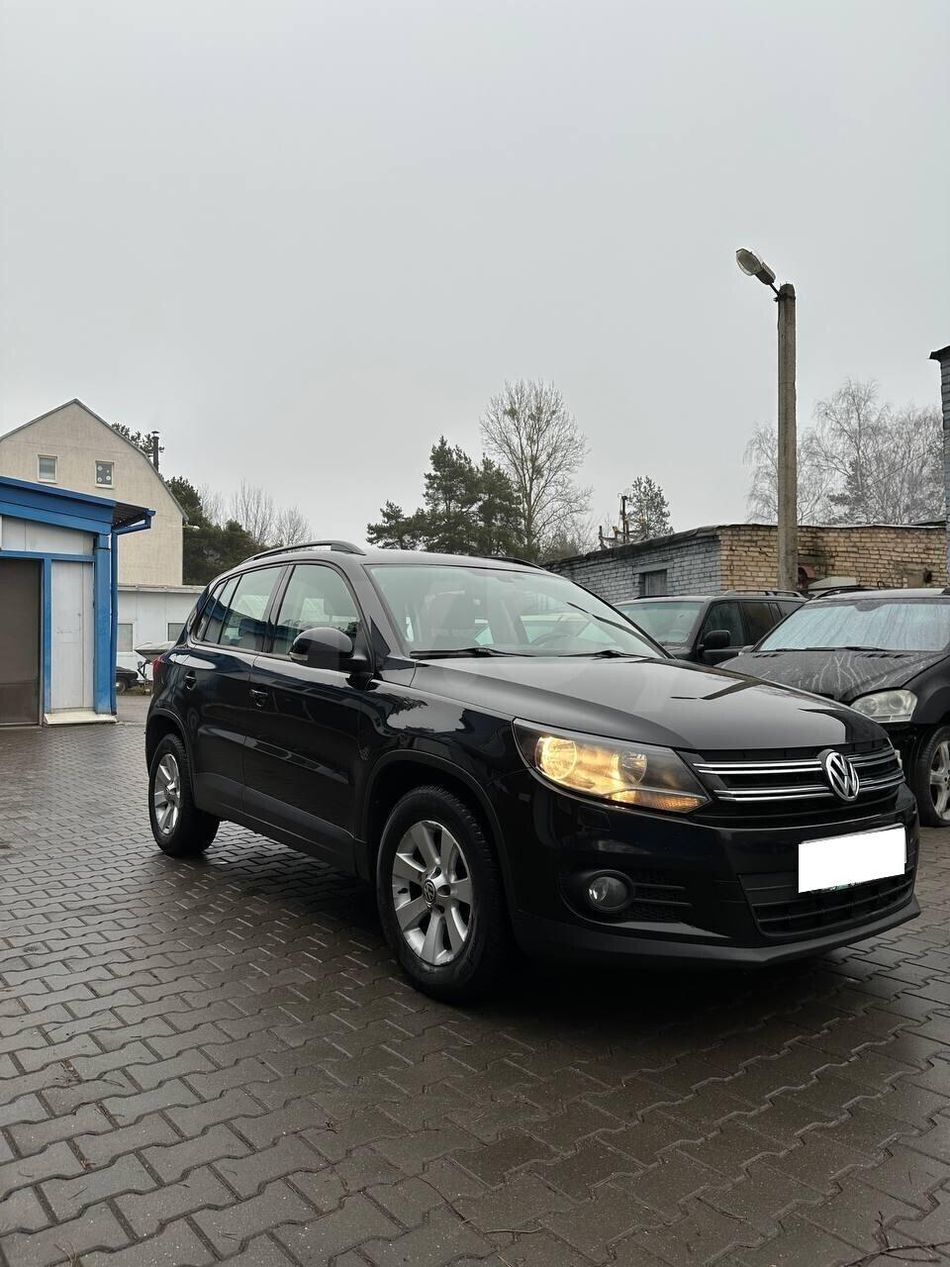Tiguan_2011-2018: (145, 543, 927, 1000)
